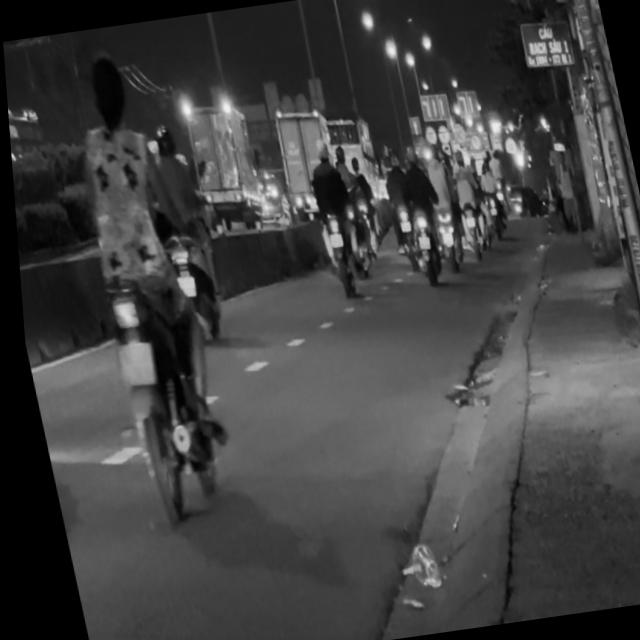licenseplate: (43, 43, 240, 524)
motorcyclist: (80, 52, 132, 133)
nohelmet: (108, 340, 152, 387)
